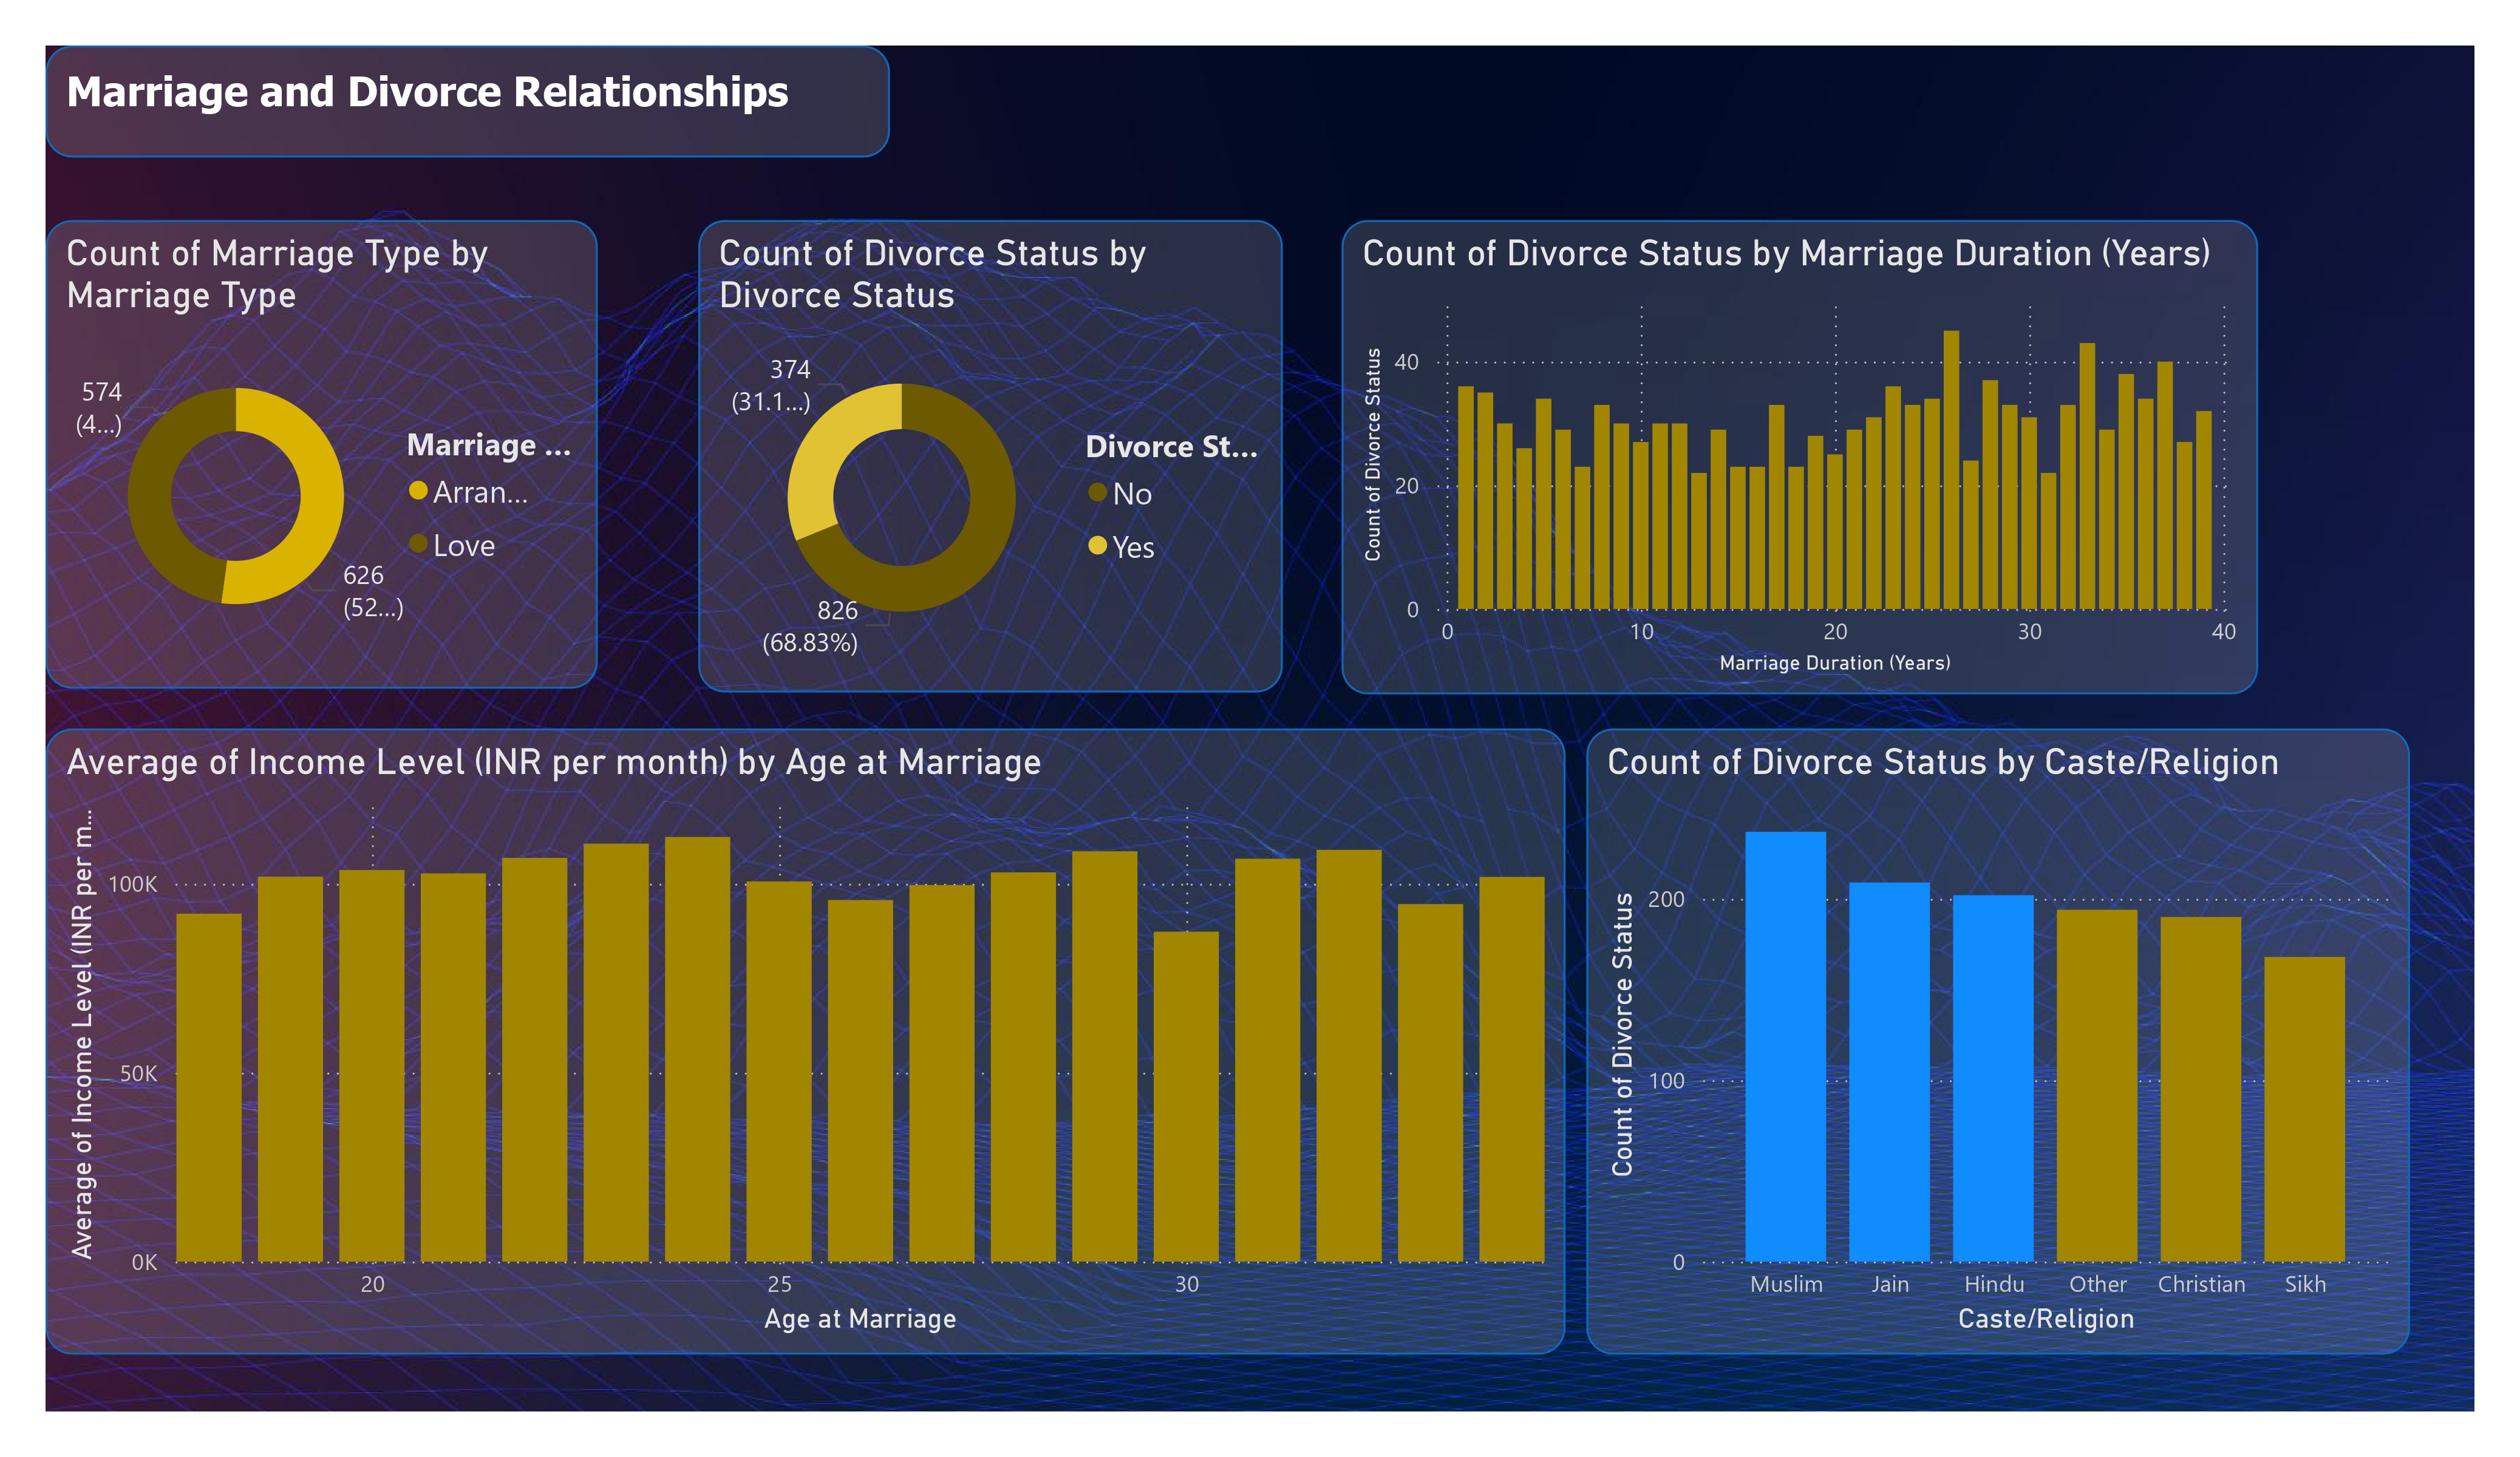

The dashboard page shown, as its layout file describes it:
{"tool":"powerbi","page":{"name":"Page 1","canvas":[1280,720],"ordinal":0},"visuals":[{"type":"donutChart","fields":{"Category":["marriage_divorce_india_with_id.Marriage Type"],"Y":["CountNonNull(marriage_divorce_india_with_id.Marriage Type)"]},"box":[0,92.4,290.6,246.9],"z":0},{"type":"columnChart","fields":{"Category":["marriage_divorce_india_with_id.Age at Marriage"],"Y":["Avg(marriage_divorce_india_with_id.Income Level (INR per month))"]},"box":[0,360,800.8,330.2],"z":1000},{"type":"donutChart","fields":{"Category":["marriage_divorce_india_with_id.Divorce Status"],"Y":["CountNonNull(marriage_divorce_india_with_id.Divorce Status)"]},"box":[344.4,92.4,307.4,248.6],"z":2000},{"type":"textbox","box":[0,0,445.1,58.8],"z":3000},{"type":"clusteredColumnChart","fields":{"Y":["CountNonNull(marriage_divorce_india_with_id.Divorce Status)"],"Category":["marriage_divorce_india_with_id.Caste/Religion"]},"box":[812.1,360,433.7,330.2],"z":4000},{"type":"clusteredColumnChart","fields":{"Category":["marriage_divorce_india_with_id.Marriage Duration (Years)"],"Y":["CountNonNull(marriage_divorce_india_with_id.Divorce Status)"]},"box":[683.1,92.1,483.3,249.4],"z":5000}]}

Visuals, with their boxes in screenshot pixels (x1, y1, x2, y2):
donutChart - marriage_divorce_india_with_id.Marriage Type x CountNonNull(marriage_divorce_india_with_id.Marriage Type): [left=46, top=221, right=597, bottom=689]
columnChart - marriage_divorce_india_with_id.Age at Marriage x Avg(marriage_divorce_india_with_id.Income Level (INR per month)): [left=46, top=728, right=1565, bottom=1355]
donutChart - marriage_divorce_india_with_id.Divorce Status x CountNonNull(marriage_divorce_india_with_id.Divorce Status): [left=699, top=221, right=1282, bottom=693]
textbox: [left=46, top=46, right=890, bottom=157]
clusteredColumnChart - CountNonNull(marriage_divorce_india_with_id.Divorce Status) x marriage_divorce_india_with_id.Caste/Religion: [left=1587, top=728, right=2409, bottom=1355]
clusteredColumnChart - marriage_divorce_india_with_id.Marriage Duration (Years) x CountNonNull(marriage_divorce_india_with_id.Divorce Status): [left=1342, top=220, right=2259, bottom=693]
